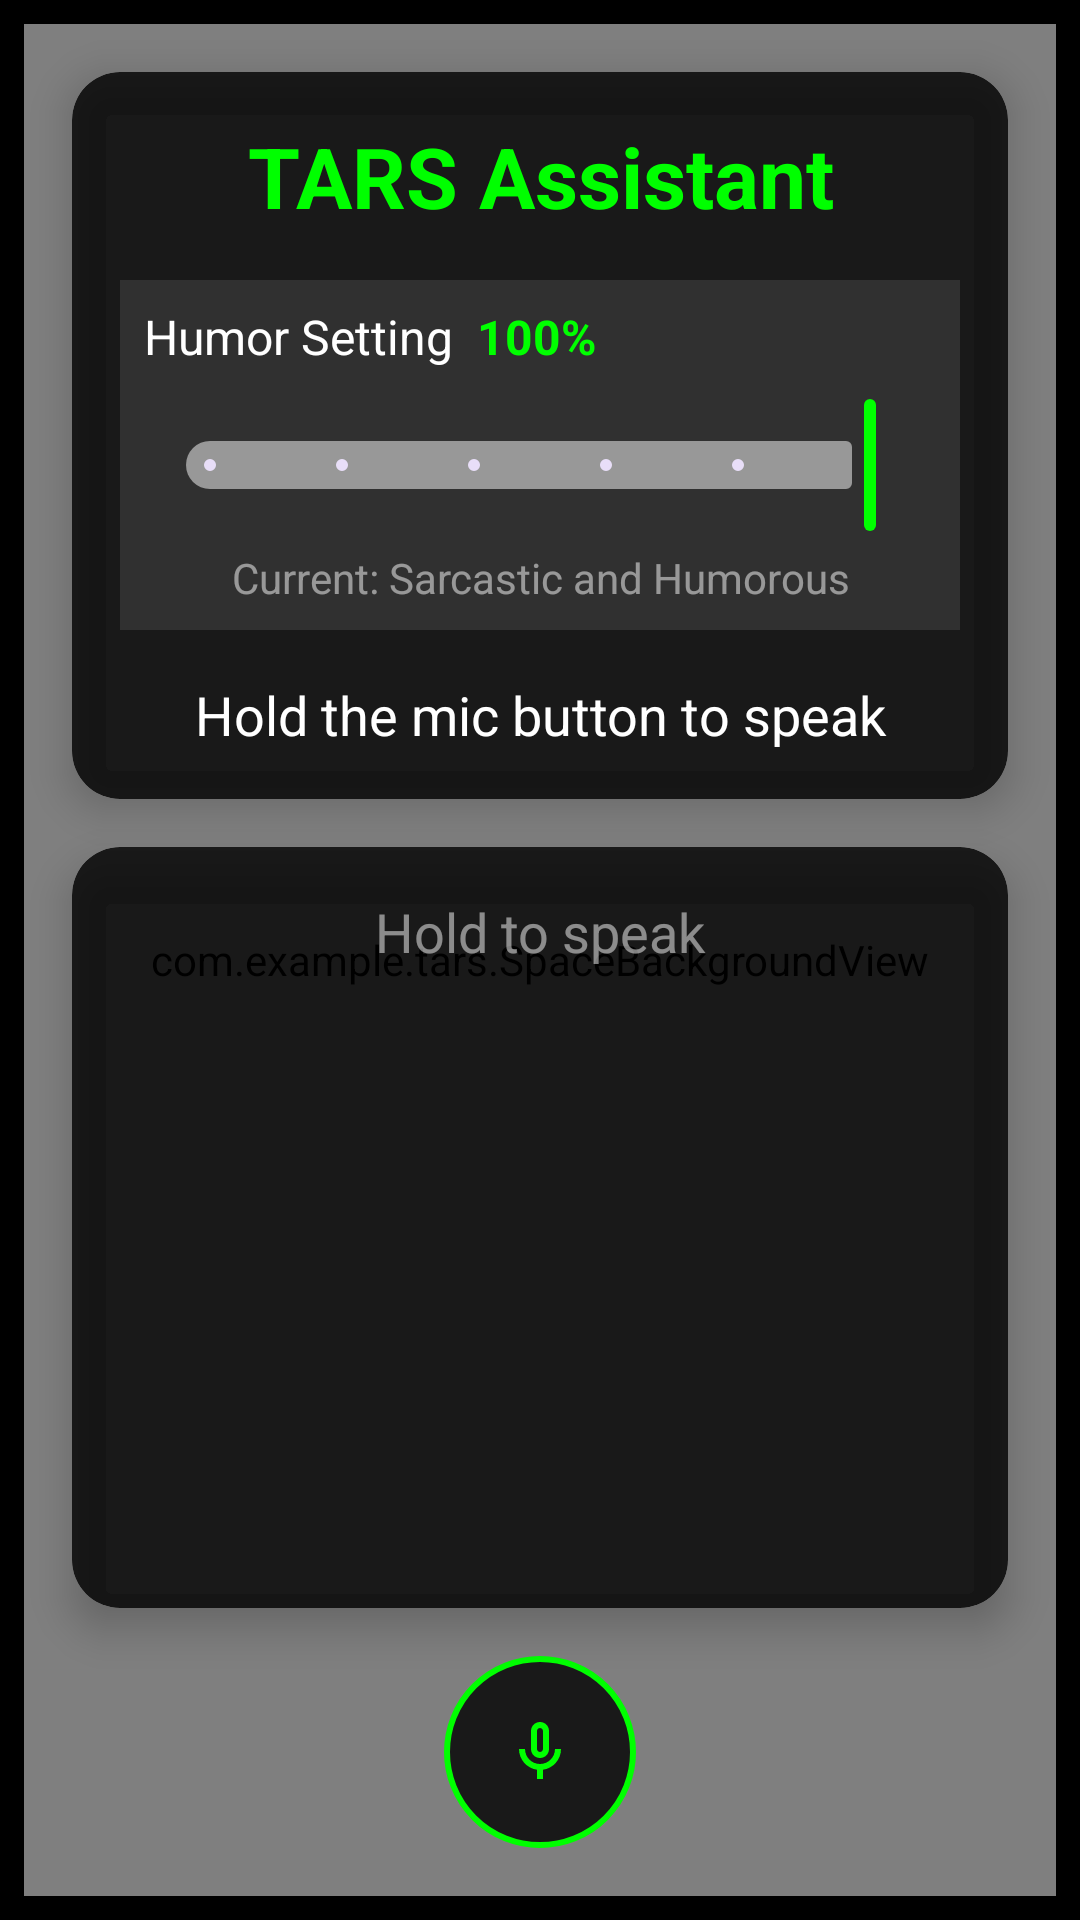

Icon bounding boxes for this 1080x1920 phone screenshot, format detection(x1, y1, x2, y2):
Microphone: detection(444, 1656, 636, 1848)
